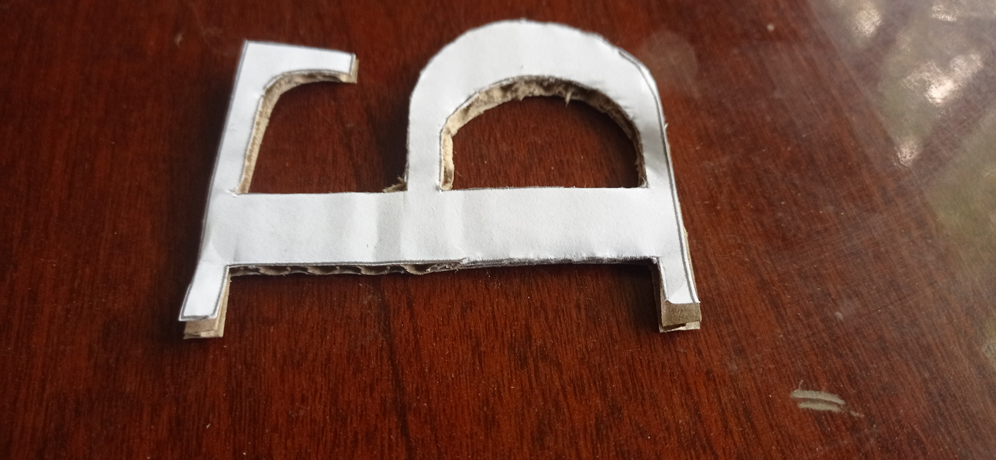b: (175, 18, 703, 337)
